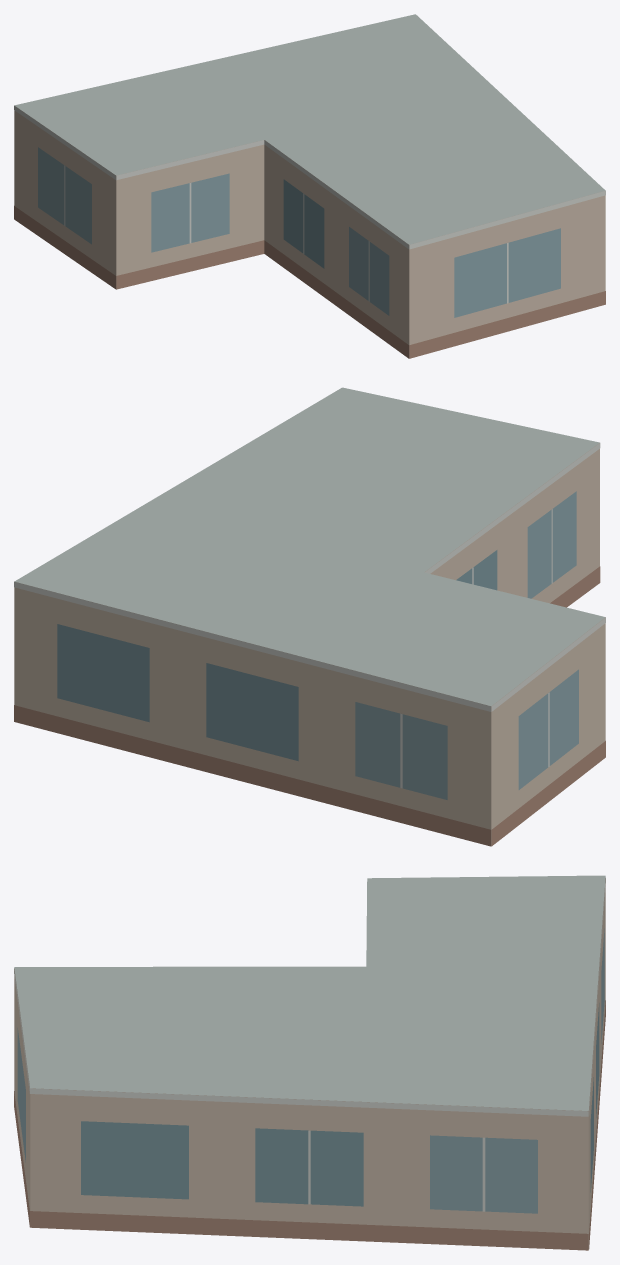
Rendered from survey-upis-32729814.glb.
3 renders of one model, top to bottom at view 1: azimuth 30°, elevation 25°; view 2: azimuth 150°, elevation 25°; view 3: azimuth 270°, elevation 25°, orthographic. The views are drawn at different scales.
Visible parts, largest first — view 1: survey-upis-32729814.tmp; view 2: survey-upis-32729814.tmp; view 3: survey-upis-32729814.tmp.
Boxes of the visible parts, <box> form: survey-upis-32729814.tmp: <box>14,14,605,358</box>; survey-upis-32729814.tmp: <box>14,387,605,846</box>; survey-upis-32729814.tmp: <box>14,875,605,1250</box>.
Bounding box in the file's own units: 11.07 × 3.05 × 11.74.
